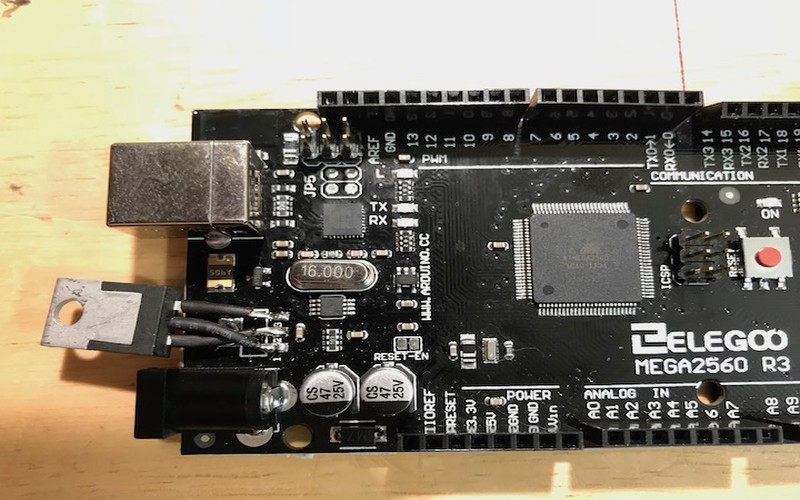Regulator: (30, 88, 331, 446)
